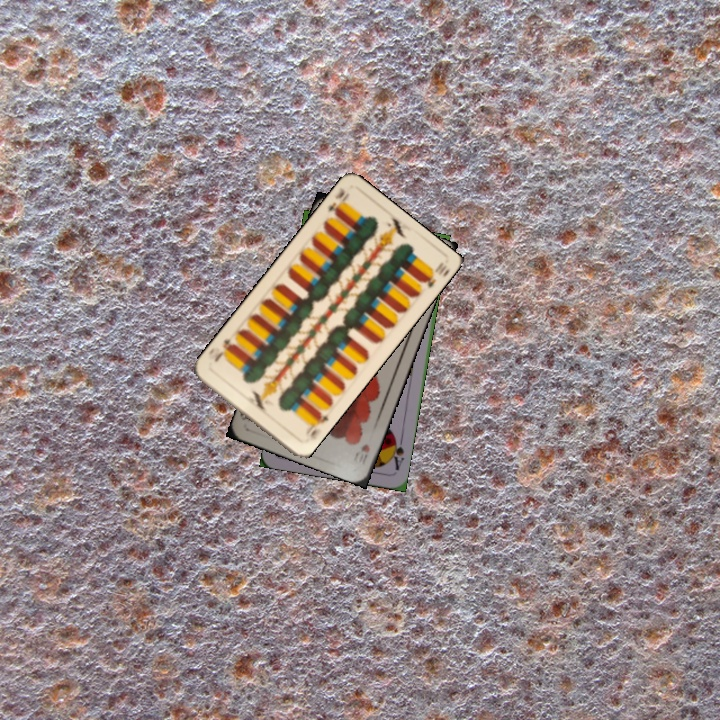E10: (301, 407, 331, 445), (324, 184, 352, 219)
H10: (357, 440, 372, 467)
SA: (386, 432, 407, 473)
